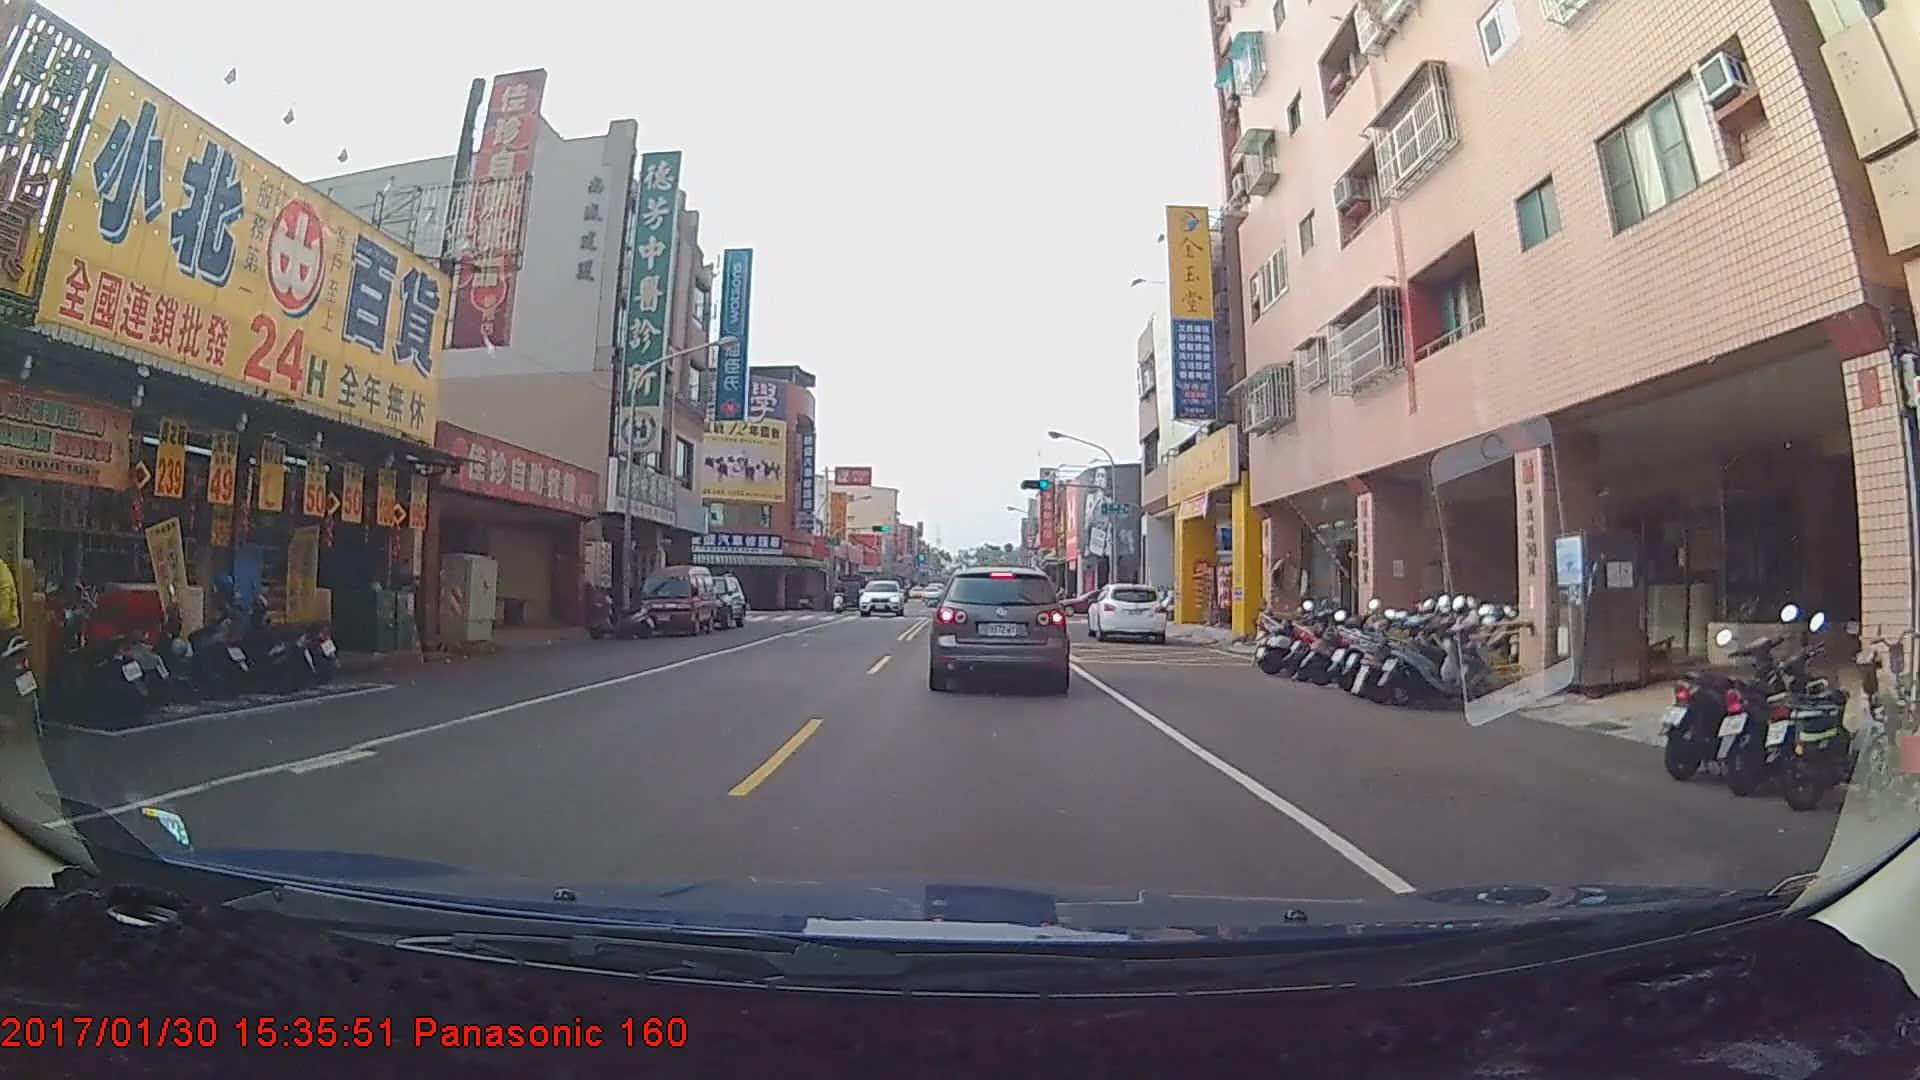vehicle: (931, 563, 1069, 690), (634, 568, 716, 638), (1087, 582, 1167, 644), (680, 570, 746, 626), (857, 576, 893, 607)
